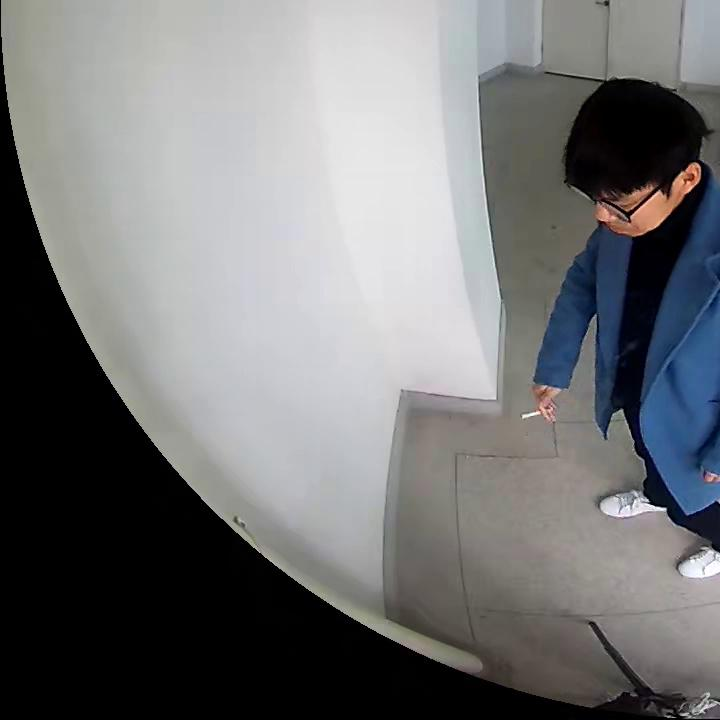handsmoke: (520, 385, 558, 422)
mouthwithoutsmoke: (565, 78, 703, 238)
